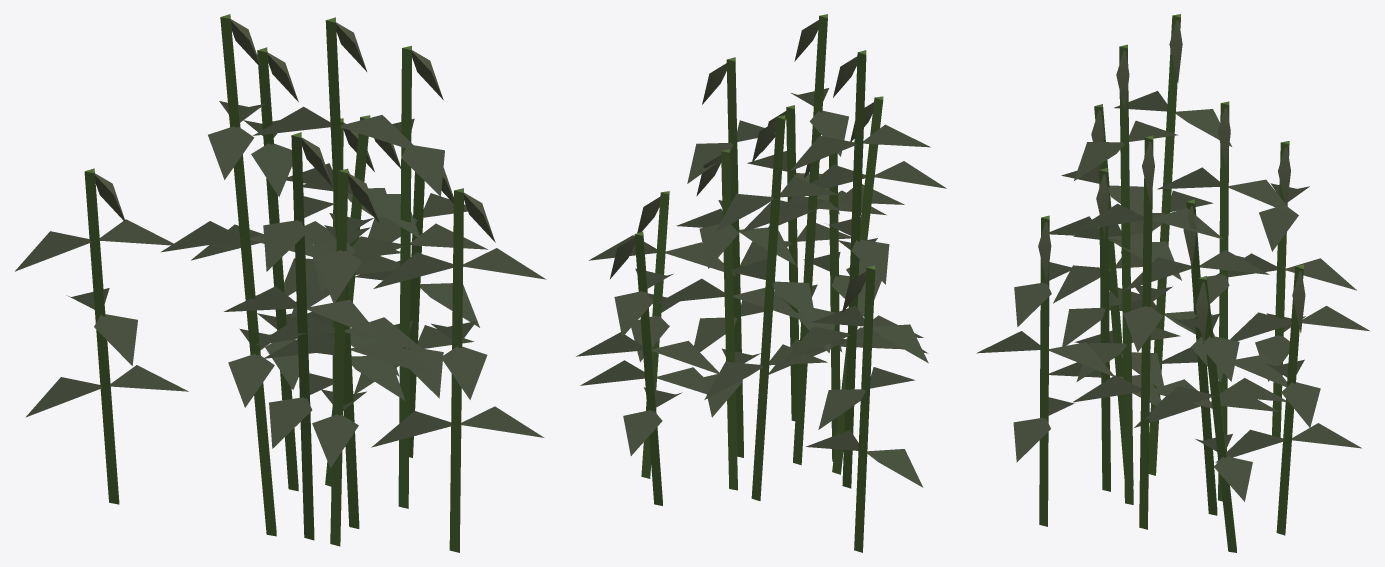
Rendered from Nettles.fbx.
3 renders of one model, left to right at view 1: azimuth 30°, elevation 25°; view 2: azimuth 150°, elevation 25°; view 3: azimuth 270°, elevation 25°, orthographic. The views are drawn at different scales.
Parts seen in each view (by area): view 1: Nettles; view 2: Nettles; view 3: Nettles.
Part boxes in pixels (x1,y1,x2,y2): Nettles: [15, 14, 546, 552]; Nettles: [576, 14, 946, 552]; Nettles: [976, 14, 1370, 552].
Size of the model in its own units: 0.7361 by 0.8446 by 0.6771.
